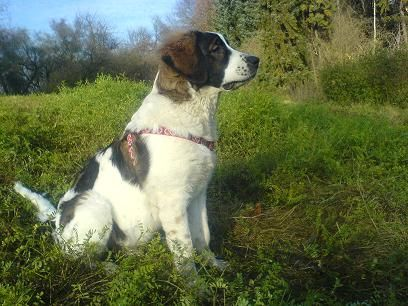cau_ovcharka: (13, 26, 259, 283)
